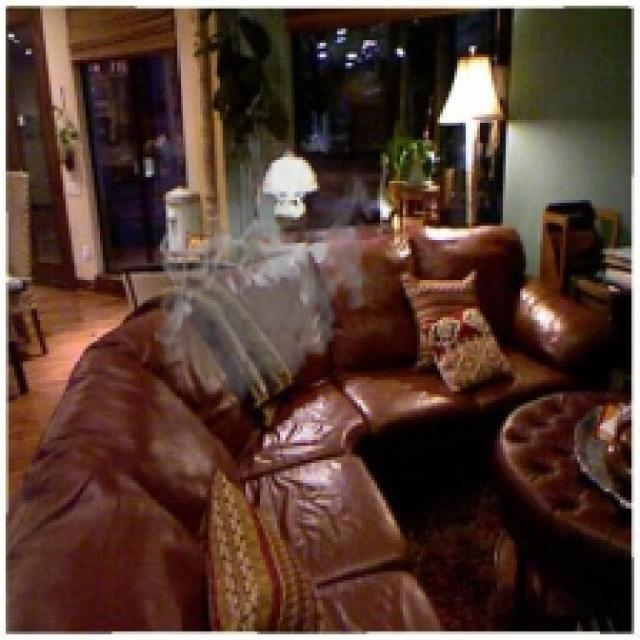Smoke: (151, 142, 380, 418)
